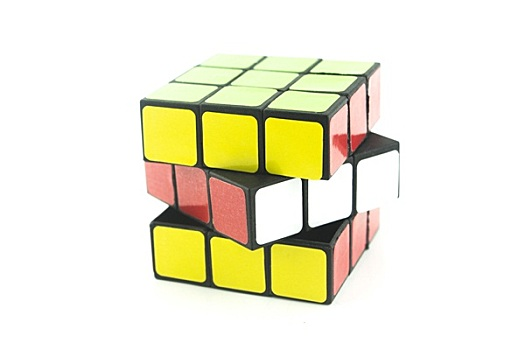cube: (136, 49, 403, 307)
